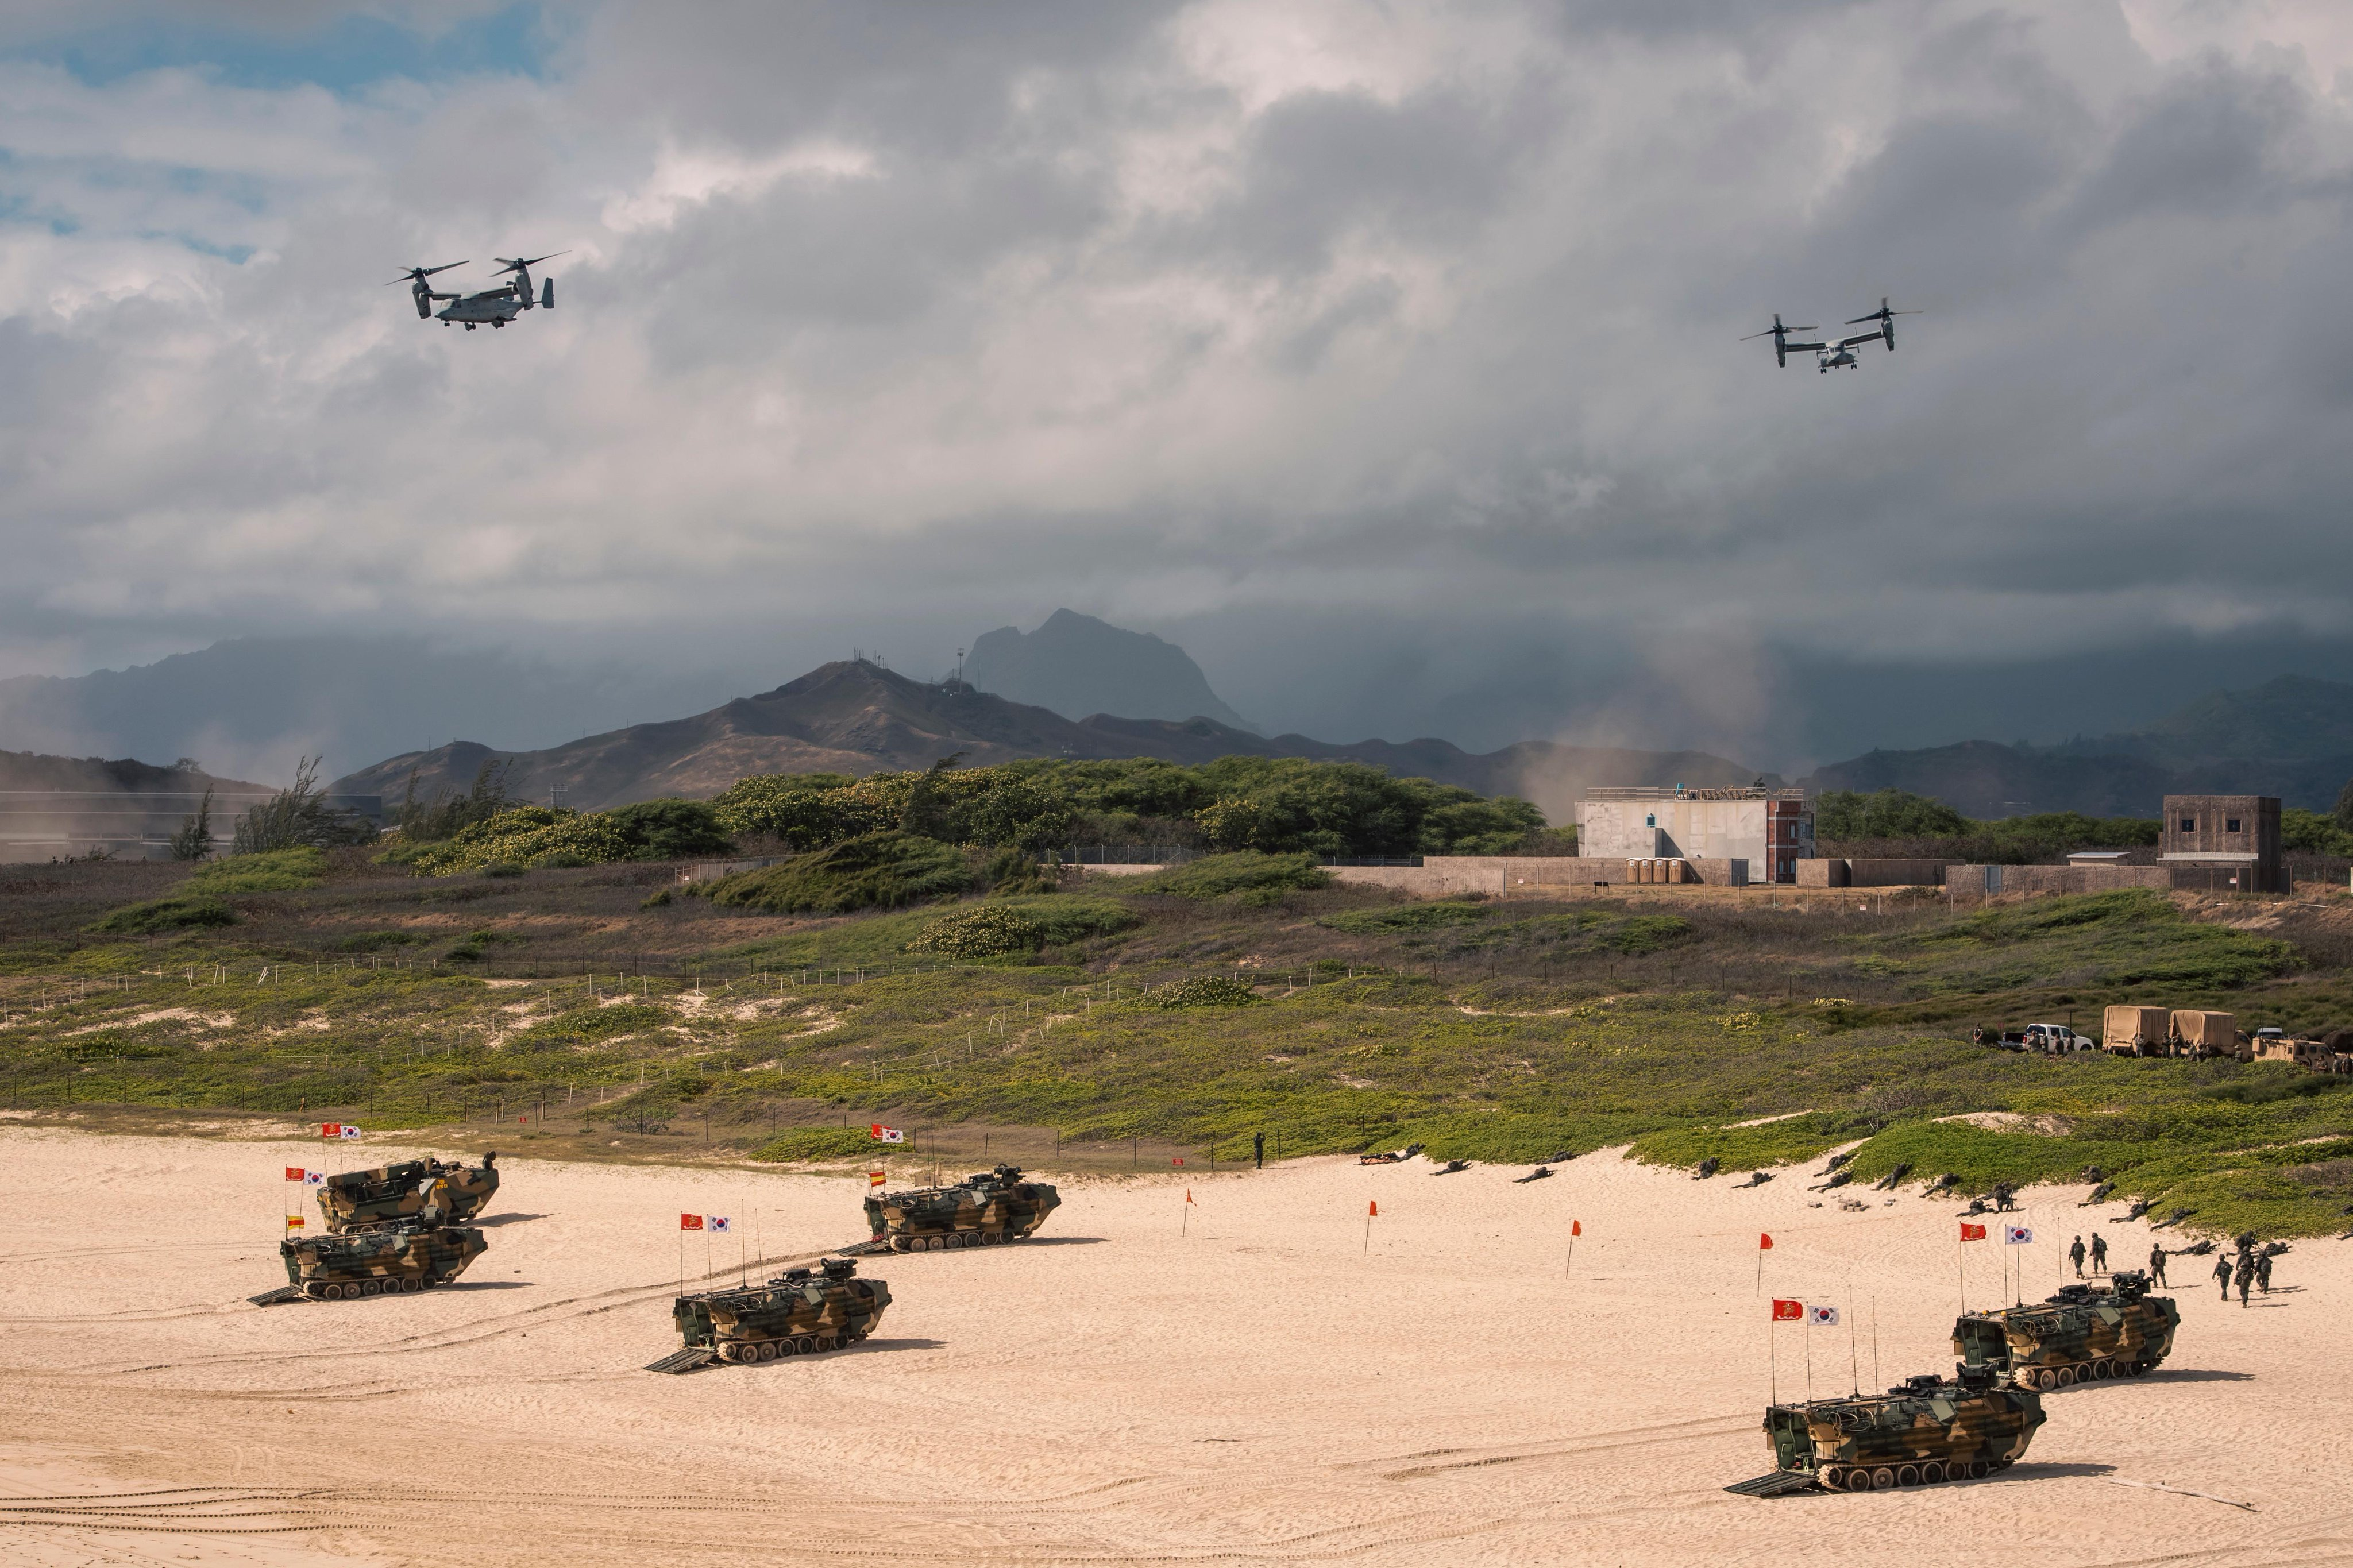airplane: (381, 248, 572, 332), (1739, 296, 1924, 374)
